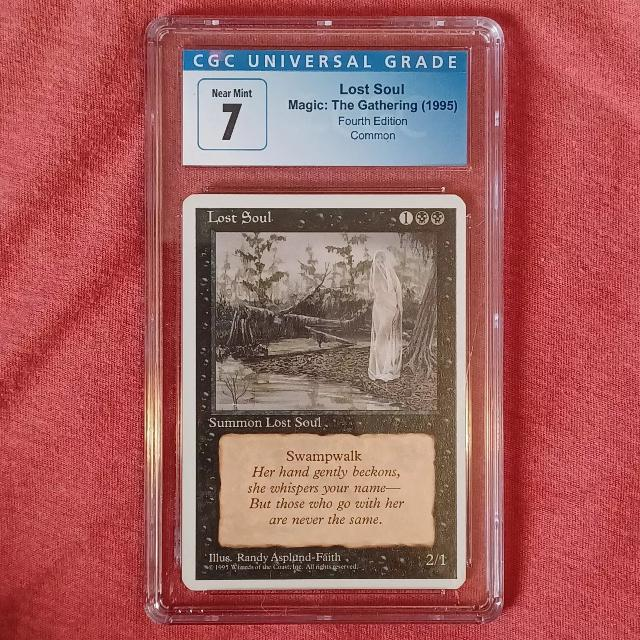card: (181, 193, 468, 591)
cgc_label_old: (182, 48, 469, 166)
cgc_slab: (144, 14, 505, 626)
